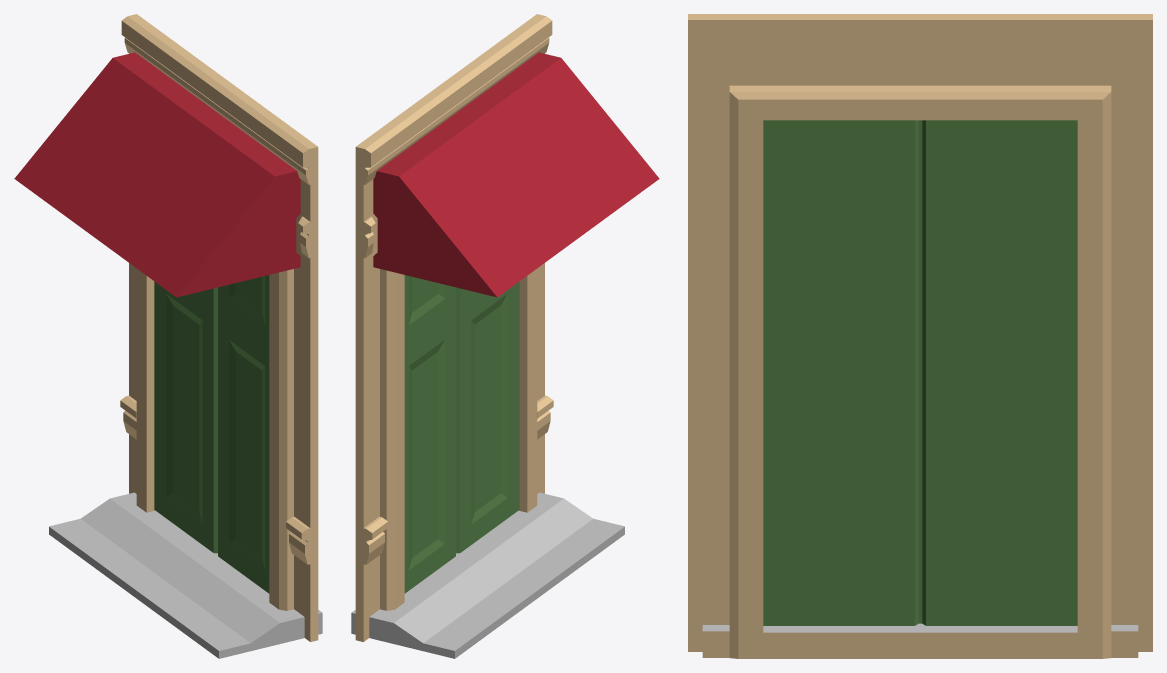
The model's file is Door_B.fbx.
The picture shows the model from 3 angles, left to right: view 1: azimuth 30°, elevation 25°; view 2: azimuth 150°, elevation 25°; view 3: azimuth 270°, elevation 25°; orthographic projection. The views are drawn at different scales.
Visible parts, largest first — view 1: Door_B; view 2: Door_B; view 3: Door_B.
Boxes of the visible parts, x1,y1,x2,y2 form: Door_B: (14,14,322,658); Door_B: (351,14,659,658); Door_B: (688,14,1152,658).
Bounding box in the file's own units: 91.99 × 200 × 300.
